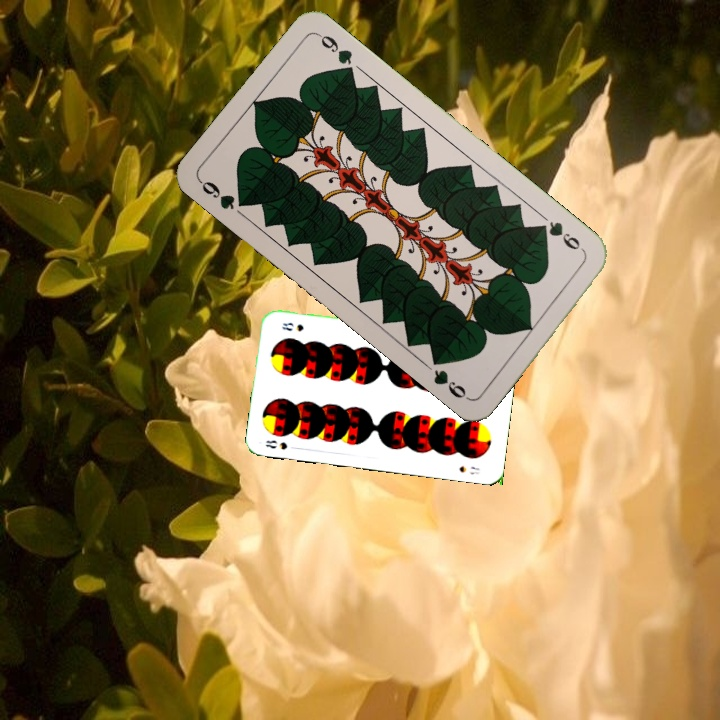G9: (534, 217, 589, 257), (195, 176, 252, 213)
S8: (262, 436, 290, 452)
